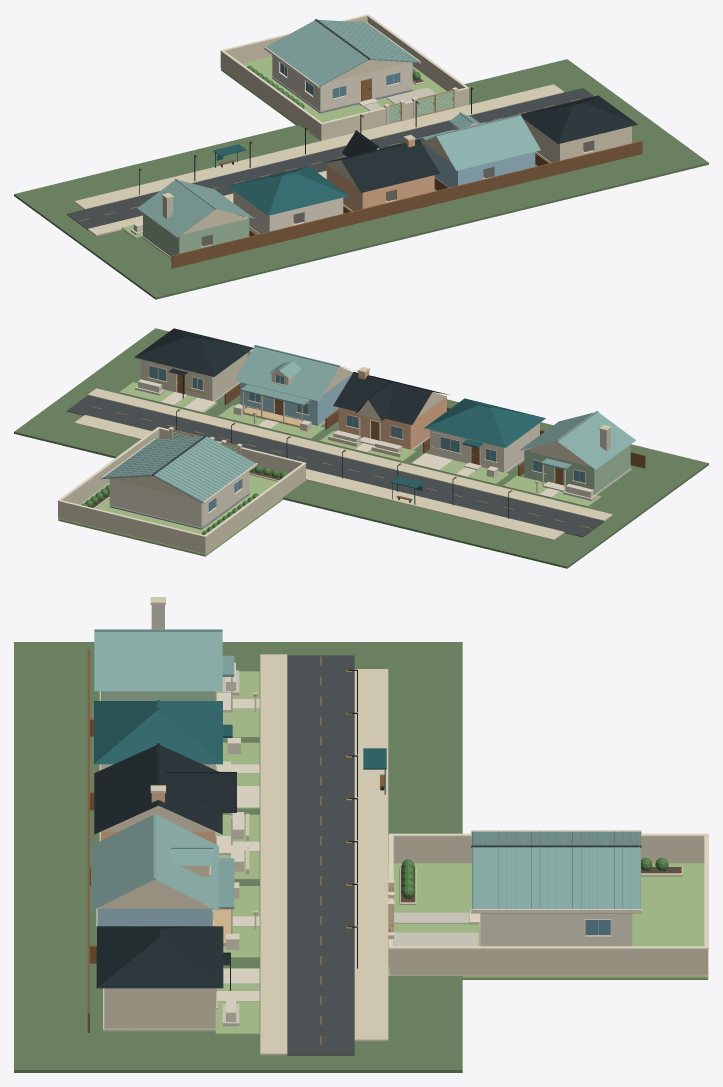
Rendered from house-and-lot-cozy.fbx.
3 views of the same model, one above another, from view 1: azimuth 30°, elevation 25°; view 2: azimuth 150°, elevation 25°; view 3: azimuth 270°, elevation 25° (orthographic). The views are drawn at different scales.
Visible parts, largest first — view 1: Street | verge ground, Street | houses across the road - roofs, Street | houses across the road, perimeter_fence, Street | sidewalks, Roof | main roof, Street | road, house_walls_and_floors, Lot | 16m x 19m lawn, Roof | ivory gables; view 2: Street | houses across the road, Street | verge ground, Street | houses across the road - roofs, Street | road, Street | sidewalks, perimeter_fence, Roof | main roof, house_walls_and_floors, Lot | 16m x 19m lawn, Roof | ivory gables; view 3: Street | verge ground, Street | houses across the road - roofs, Street | road, Street | houses across the road, Street | sidewalks, perimeter_fence, Roof | main roof, Lot | 16m x 19m lawn, house_walls_and_floors, Driveway and parking, Pedestrian path.
Boxes of the visible parts, <box> form: Street | verge ground: <box>14,59,708,299</box>; Street | houses across the road - roofs: <box>137,95,637,237</box>; Street | houses across the road: <box>121,120,642,268</box>; perimeter_fence: <box>220,14,469,140</box>; Street | sidewalks: <box>74,84,564,236</box>; Roof | main roof: <box>264,19,420,88</box>; Street | road: <box>66,88,593,229</box>; house_walls_and_floors: <box>272,55,412,113</box>; Lot | 16m x 19m lawn: <box>221,56,446,125</box>; Roof | ivory gables: <box>328,60,410,82</box>; Street | houses across the road: <box>119,353,645,507</box>; Street | verge ground: <box>14,328,708,568</box>; Street | houses across the road - roofs: <box>134,328,635,469</box>; Street | road: <box>67,395,604,537</box>; Street | sidewalks: <box>74,388,612,540</box>; perimeter_fence: <box>57,427,306,553</box>; Roof | main roof: <box>101,435,257,504</box>; house_walls_and_floors: <box>109,471,249,529</box>; Lot | 16m x 19m lawn: <box>58,469,282,556</box>; Roof | ivory gables: <box>110,476,196,499</box>; Street | verge ground: <box>14,642,462,1072</box>; Street | houses across the road - roofs: <box>91,597,236,988</box>; Street | road: <box>287,655,354,1055</box>; Street | houses across the road: <box>87,649,259,1034</box>; Street | sidewalks: <box>260,654,388,1055</box>; perimeter_fence: <box>387,833,708,975</box>; Roof | main roof: <box>471,830,641,913</box>; Lot | 16m x 19m lawn: <box>388,862,708,979</box>; house_walls_and_floors: <box>480,913,632,946</box>; Driveway and parking: <box>394,932,478,946</box>; Pedestrian path: <box>394,912,469,923</box>.
Size of the model in its own units: 60 by 5.98 by 41.2.
